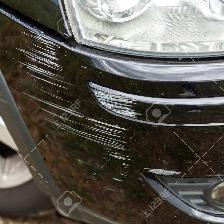bumper_scratch: (8, 13, 215, 199)
